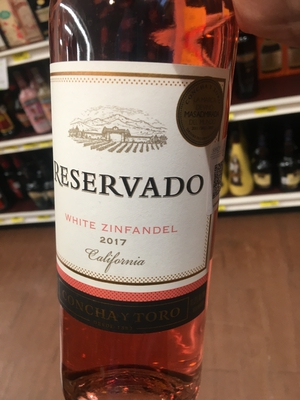reservado white zinfandel: (45, 10, 228, 400)
